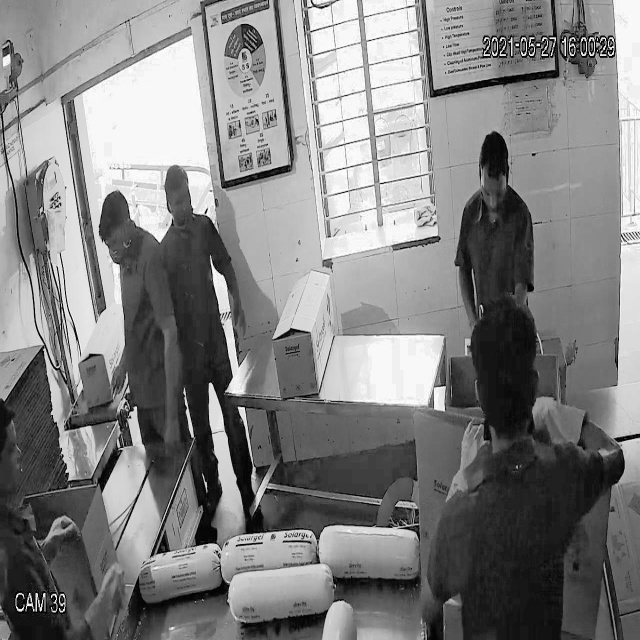Sin_gafas: (476, 172, 511, 209)
